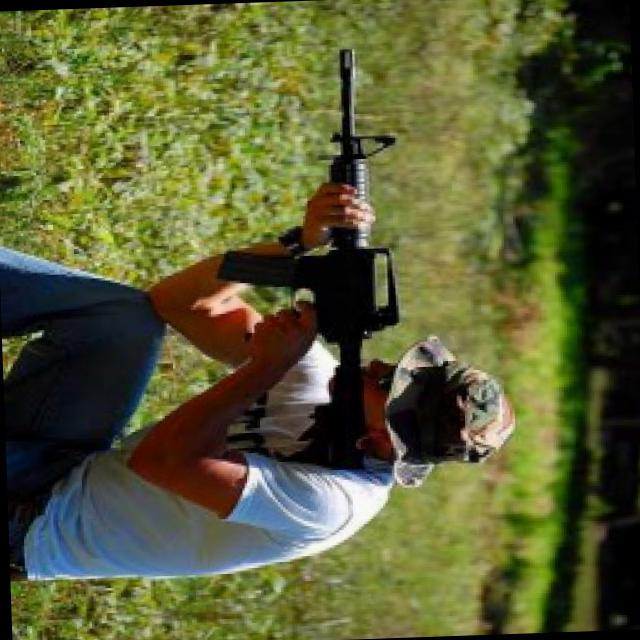long weapon: (240, 29, 394, 388)
